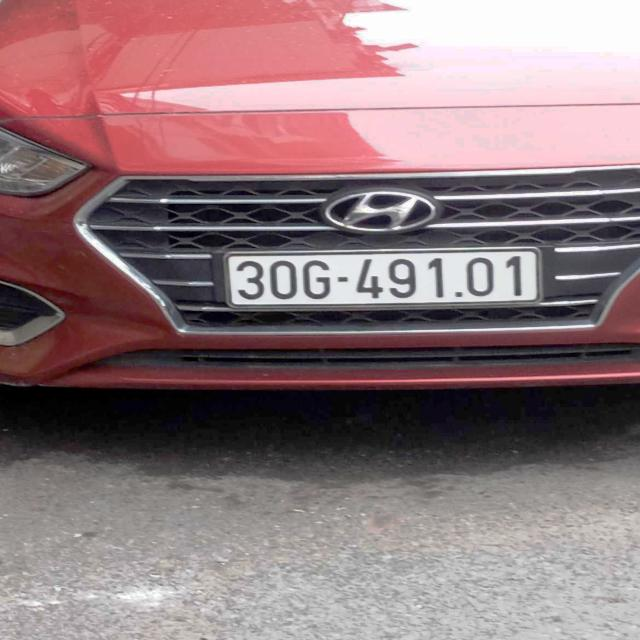license_plate: (227, 251, 542, 305)
